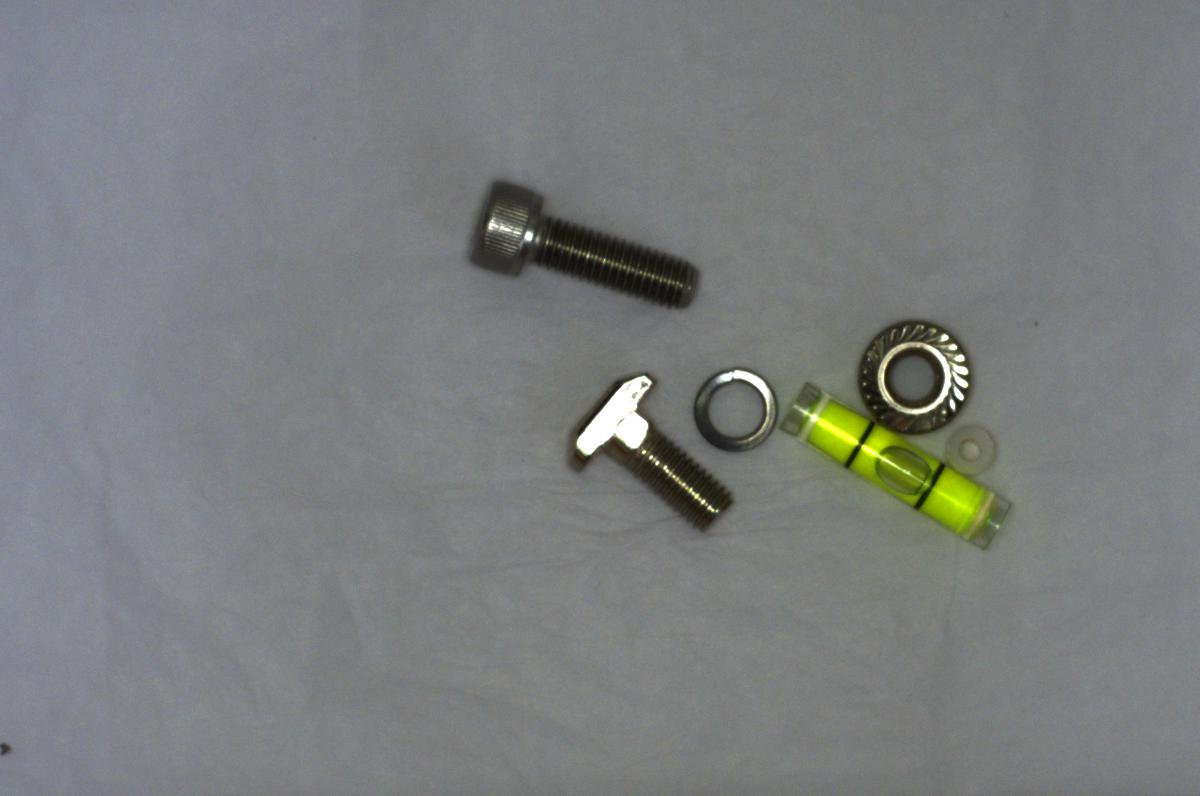Flange nut: (851, 317, 991, 435)
Hexagon screw: (450, 173, 706, 309)
Horizontal bubble: (774, 369, 1017, 551)
Plastic cushion pillar: (941, 419, 1003, 478)
Spring washer: (684, 358, 778, 455)
T-shaped screw: (552, 369, 737, 528)
